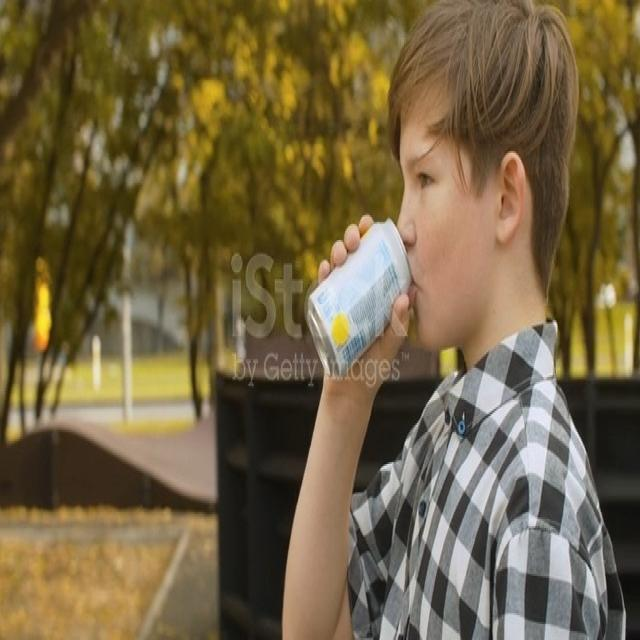can: (307, 218, 415, 380)
